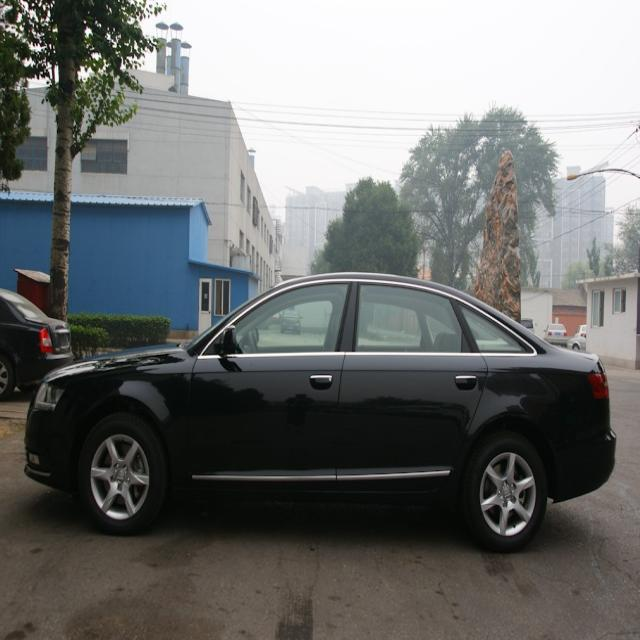back_left_side_light: (586, 362, 609, 401)
door: (344, 278, 492, 497)
front_bumper: (22, 408, 80, 491)
front_left_side_door: (186, 276, 355, 503)
front_left_side_light: (31, 382, 66, 412)
front_left_side_mirror: (216, 322, 240, 364)
rear_bumper: (548, 406, 611, 501)
wheel: (82, 412, 164, 535), (467, 437, 544, 550)
